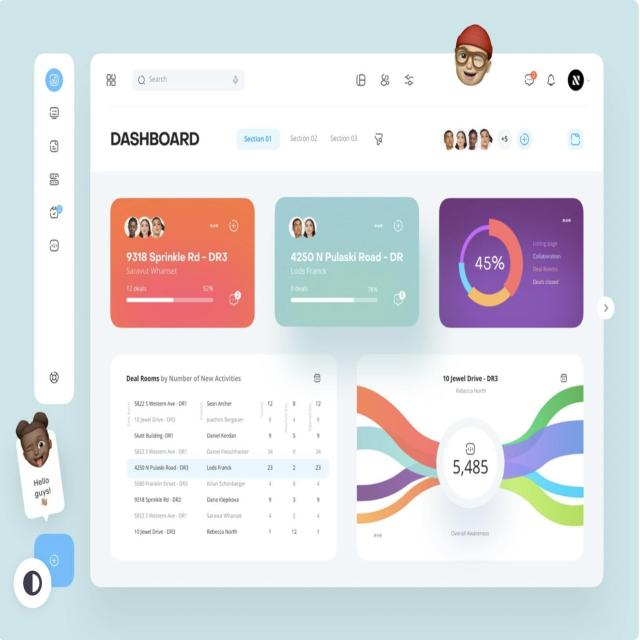button: (377, 68, 393, 90), (352, 69, 368, 90), (402, 69, 417, 90)
input: (132, 68, 243, 92)
